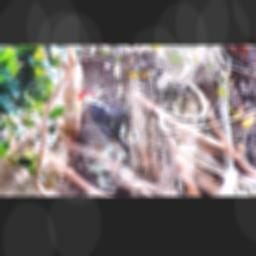Woodpecker: (71, 88, 130, 159)
